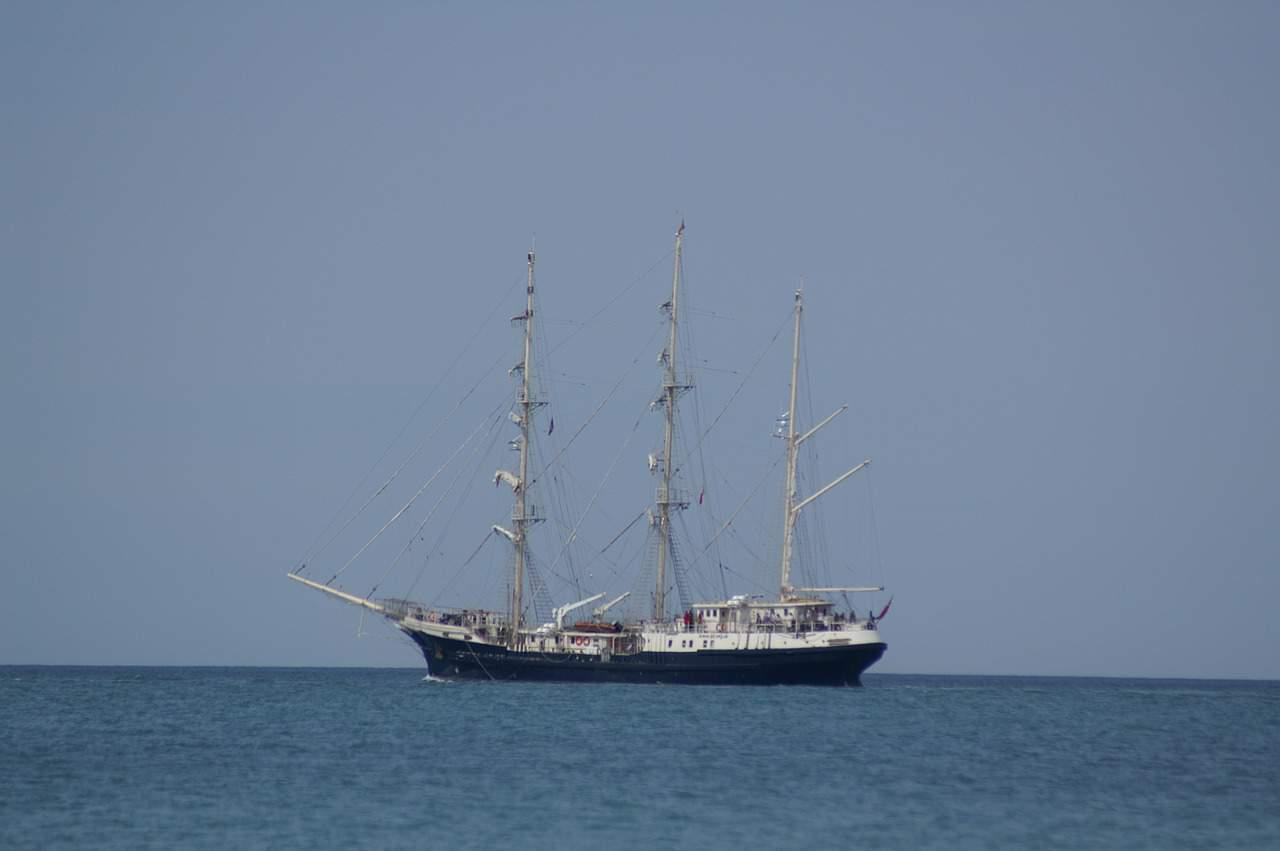Ship: (286, 224, 893, 681)
